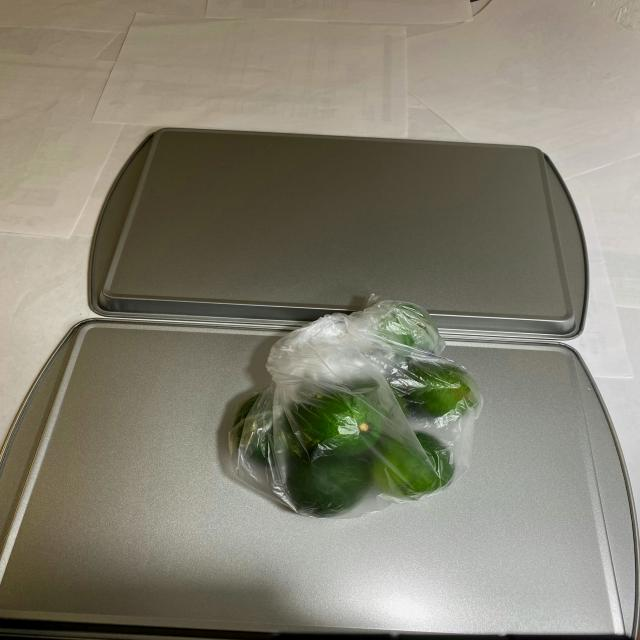lemon: (208, 309, 491, 513)
